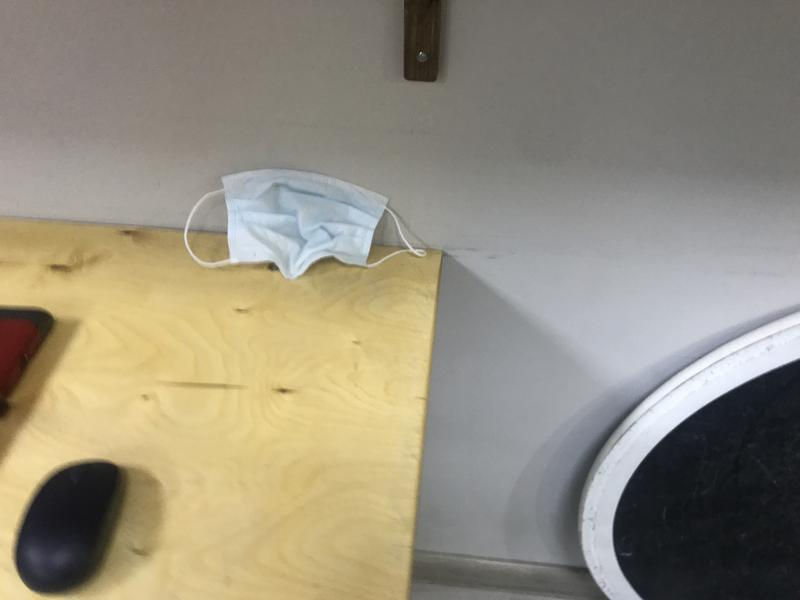medical_mask: (183, 168, 425, 278)
